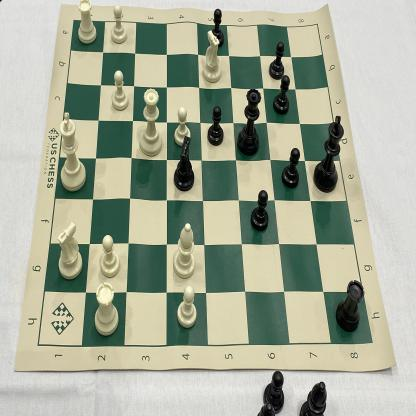black-king: (311, 110, 346, 197)
black-knight: (168, 135, 197, 194)
black-pawn: (249, 190, 272, 238), (279, 147, 303, 189), (205, 3, 227, 47), (270, 75, 293, 116), (266, 38, 286, 82), (206, 103, 225, 148)
black-queen: (234, 84, 262, 159)
black-rook: (334, 272, 366, 335)
white-bishop: (170, 220, 199, 281)
white-king: (55, 110, 87, 193)
white-knight: (53, 220, 85, 282), (200, 27, 224, 88)
white-pawn: (175, 280, 201, 331), (97, 232, 122, 281), (171, 103, 194, 148), (108, 72, 130, 113), (109, 1, 129, 46)
white-queen: (137, 82, 164, 161)
white-rook: (91, 280, 122, 338), (72, 0, 99, 47)
